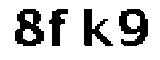8: (13, 7, 44, 51)
9: (117, 5, 150, 53)
f: (47, 4, 74, 50)
k: (81, 7, 115, 51)
